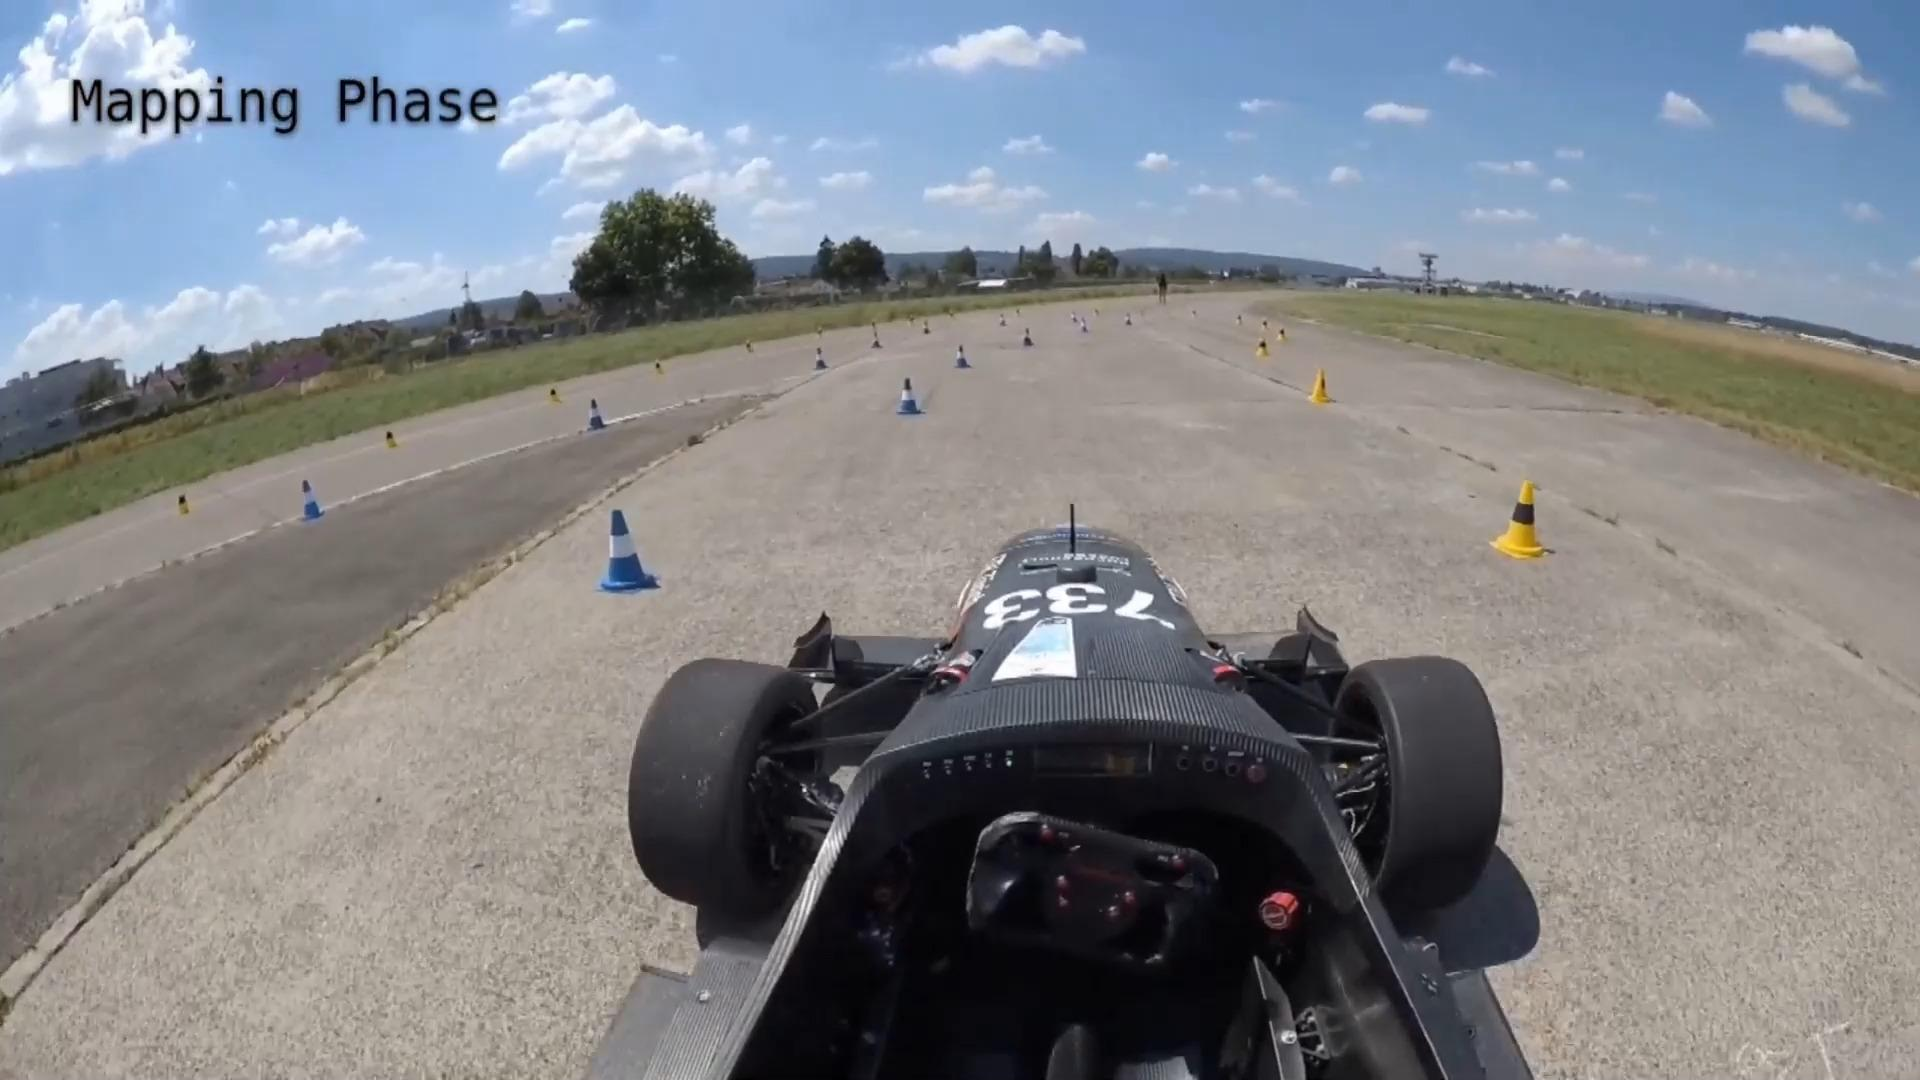blue_cone: (593, 510, 659, 593), (298, 479, 324, 521), (895, 377, 923, 415), (584, 397, 608, 430), (953, 344, 971, 369), (812, 347, 828, 369)
yellow_cone: (1489, 477, 1548, 559), (1305, 367, 1332, 405), (174, 489, 190, 516), (1255, 335, 1270, 357), (384, 427, 398, 450), (1276, 326, 1287, 342)
